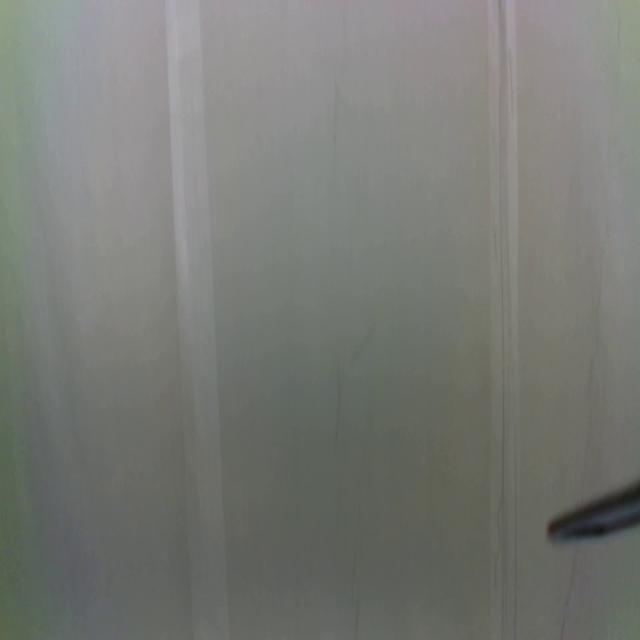crease: (164, 0, 229, 640), (487, 0, 521, 640)
